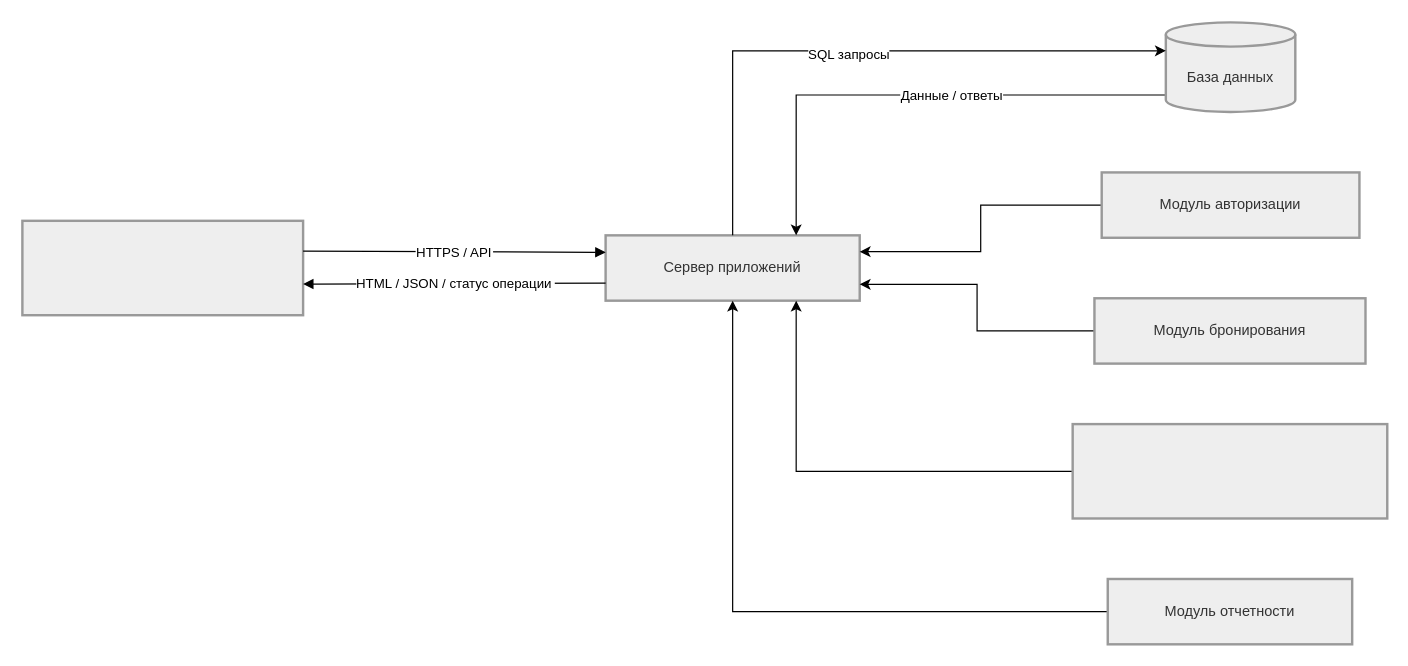
This 1408x666 diagram has some shape labels left out. Here are the shapes that lost their labels. From the top down, the centre of each, then its label:
(x=162, y=267): Клиент Гость / Администратор
(x=1229, y=470): Модуль управления номерами
